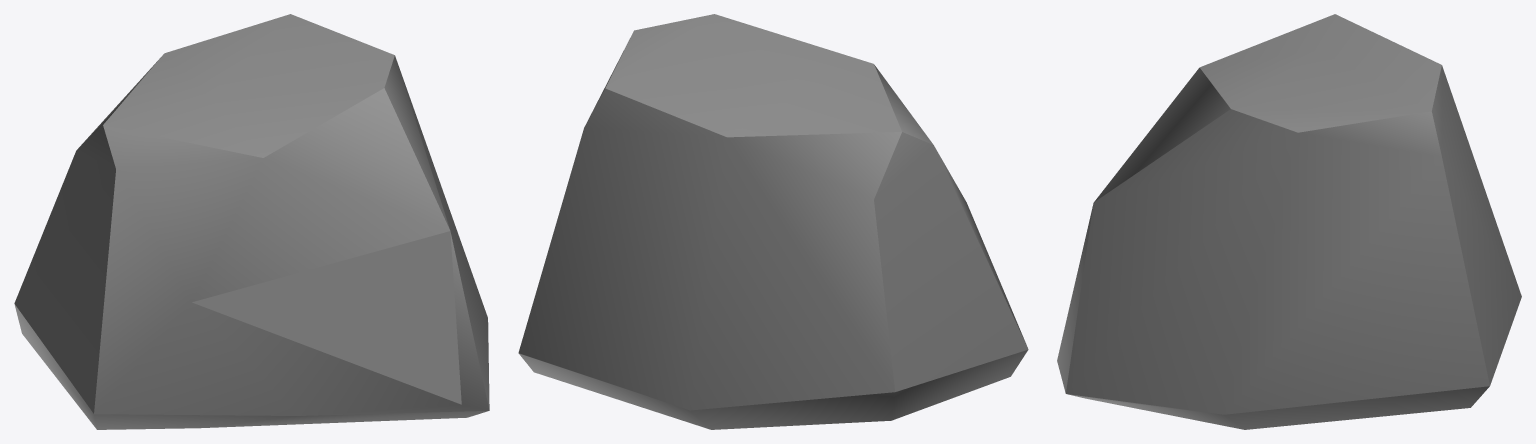
File: Batu4.fbx
3 renders of one model, left to right at view 1: azimuth 30°, elevation 25°; view 2: azimuth 150°, elevation 25°; view 3: azimuth 270°, elevation 25°, orthographic. The views are drawn at different scales.
Parts seen in each view (by area): view 1: SM_Rocks_07; view 2: SM_Rocks_07; view 3: SM_Rocks_07.
Part boxes in pixels (left/top/right/bottom): SM_Rocks_07: left=14, top=14, right=489, bottom=429; SM_Rocks_07: left=518, top=14, right=1028, bottom=429; SM_Rocks_07: left=1057, top=14, right=1521, bottom=429.
Bounding box in the file's own units: 57.49 × 40.96 × 57.71.
